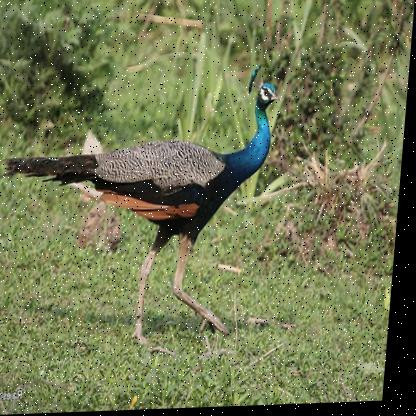Burung: (0, 65, 286, 359)
